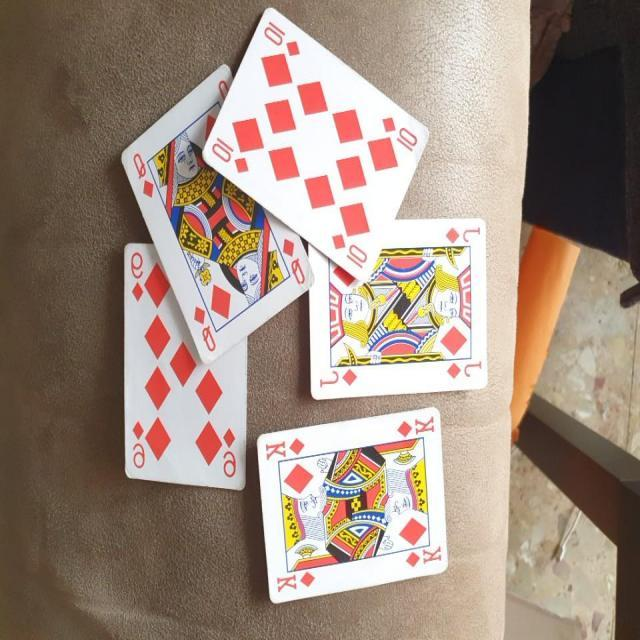10 of diamonds: (200, 3, 434, 286)
9 of diamonds: (121, 247, 248, 498)
jack of diamonds: (308, 214, 490, 403)
king of diamonds: (254, 403, 451, 604)
queen of diamonds: (118, 58, 314, 366)
